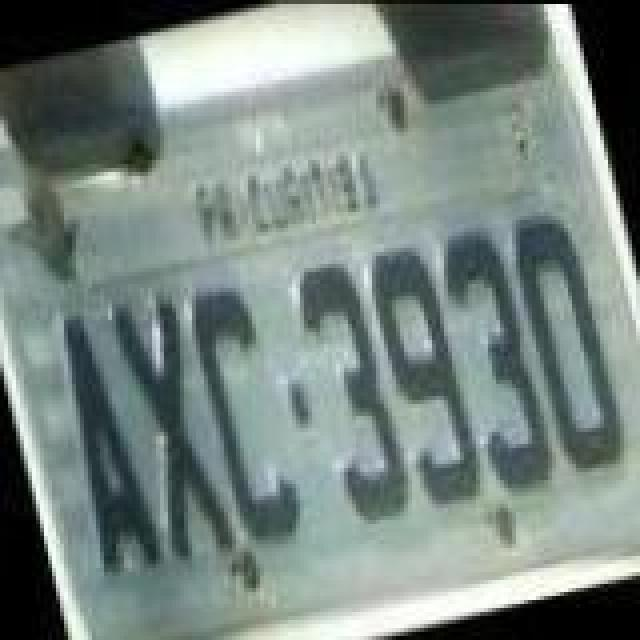3: (428, 212, 564, 504), (286, 250, 422, 538)
9: (360, 234, 488, 518)
A: (42, 302, 170, 586)
C: (182, 278, 310, 554)
O: (504, 206, 632, 482)
X: (102, 282, 238, 570)
